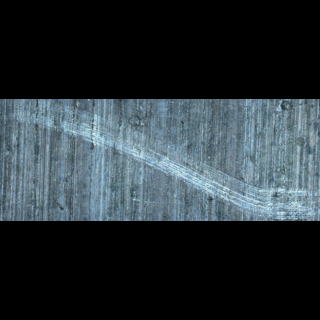d: (225, 185, 319, 221), (15, 105, 98, 140), (86, 128, 169, 161), (168, 159, 235, 192)
